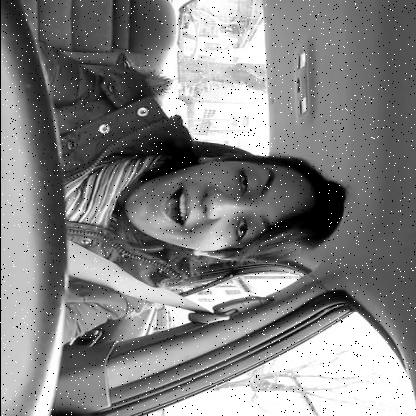seatbelt: (56, 128, 354, 312)
